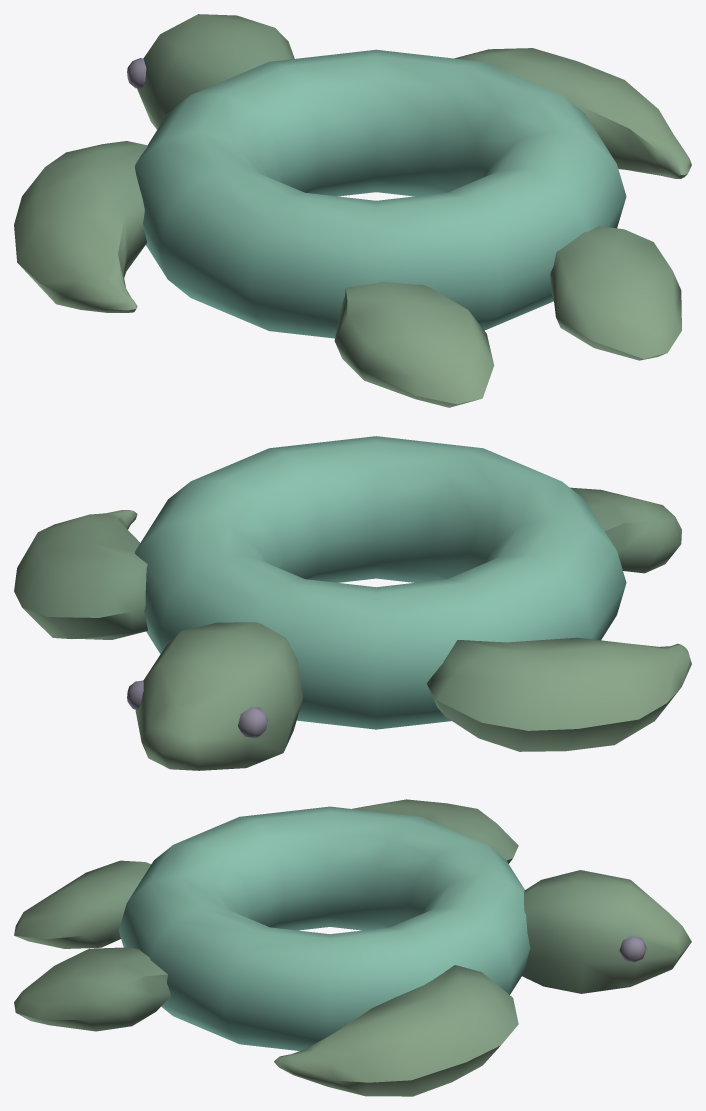
File: pool-swimming-ring-turtle.glb
The picture shows the model from 3 angles, top to bottom: view 1: azimuth 30°, elevation 25°; view 2: azimuth 150°, elevation 25°; view 3: azimuth 270°, elevation 25°; orthographic projection. The views are drawn at different scales.
Visible parts, largest first — view 1: pool-swimming-ring-turtle; view 2: pool-swimming-ring-turtle; view 3: pool-swimming-ring-turtle.
Part boxes in pixels (x1,y1,x2,y2): pool-swimming-ring-turtle: (14, 14, 691, 407); pool-swimming-ring-turtle: (14, 436, 691, 770); pool-swimming-ring-turtle: (14, 799, 691, 1096).
Size of the model in its own units: 0.6903 by 0.1364 by 0.7651.
